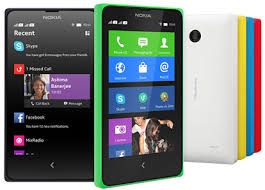nokia: (94, 1, 190, 189)
